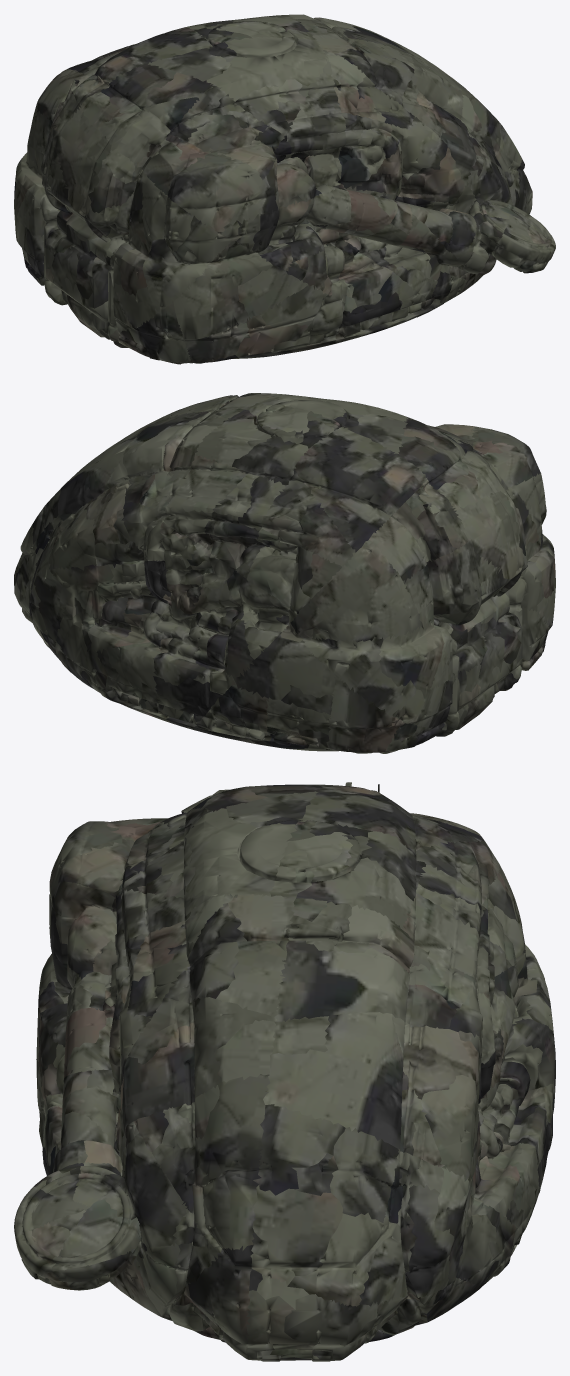
Rendered from arc-patchbay-lean.glb.
3 renders of one model, top to bottom at view 1: azimuth 30°, elevation 25°; view 2: azimuth 150°, elevation 25°; view 3: azimuth 270°, elevation 25°, orthographic. The views are drawn at different scales.
Visible parts, largest first — view 1: chassis; view 2: chassis; view 3: chassis.
Part boxes in pixels (box(x1,y1,x2,y2)): chassis: box(14, 14, 555, 364); chassis: box(14, 393, 555, 753); chassis: box(14, 782, 555, 1361).
Size of the model in its own units: 0.9898 by 0.6048 by 0.7352.
Materials: 1 (1 with a texture image).
